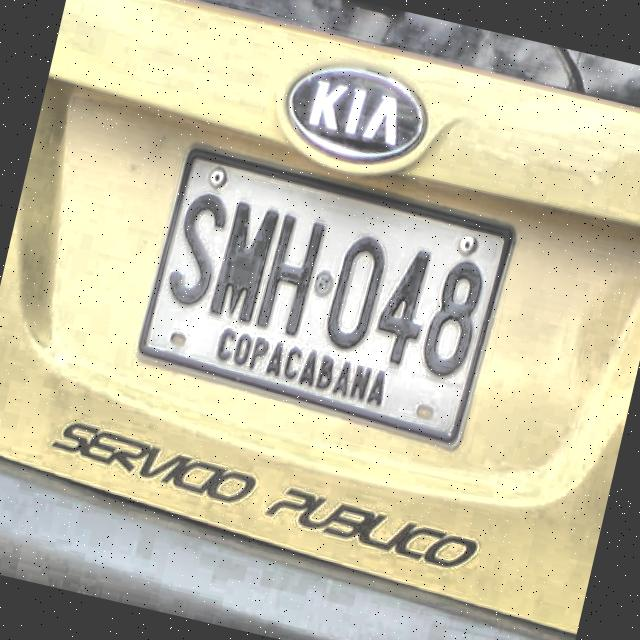0: (319, 226, 392, 356)
4: (364, 237, 443, 376)
8: (416, 250, 490, 386)
H: (254, 208, 328, 340)
M: (206, 197, 282, 328)
S: (159, 188, 235, 312)
